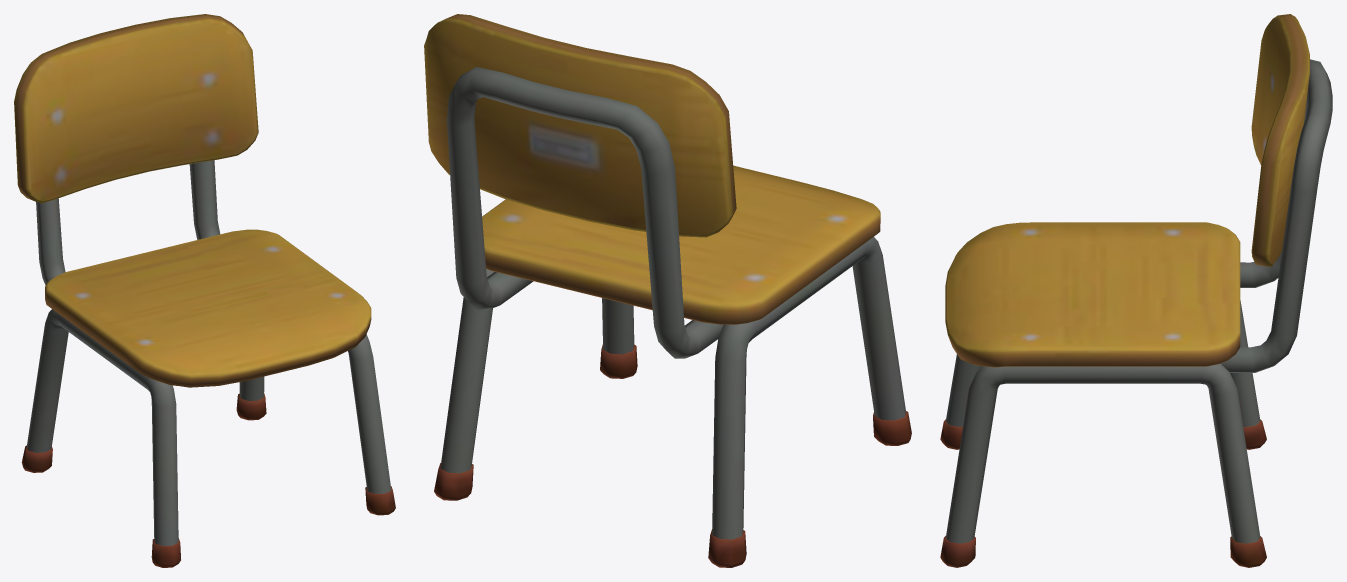
3 views of the same model, side by side, from view 1: azimuth 30°, elevation 25°; view 2: azimuth 150°, elevation 25°; view 3: azimuth 270°, elevation 25° (orthographic). The views are drawn at different scales.
Bounding box in the file's own units: 6.33 × 9.82 × 7.9.
1 material, 1 textured.
